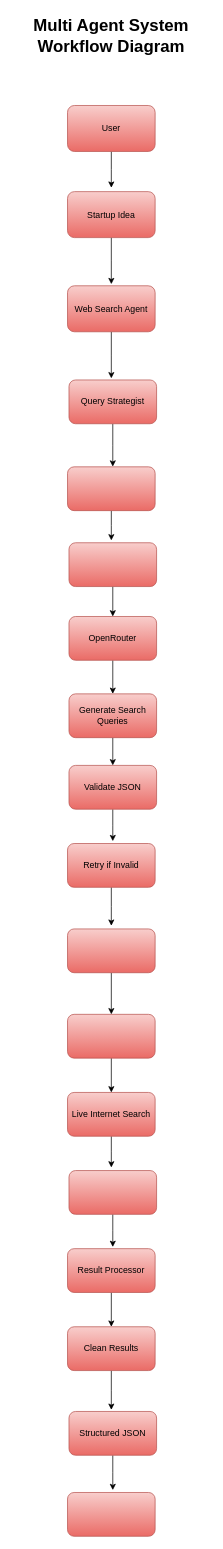
Image size: 223x1549. Some labels were removed from this diagram. Each missing label, with the centre of its shape:
Categorized Queries: (111,950)
Load Prompt: (112,564)
Market Analysis Agent(MileStone 2): (111,1514)
Raw Results: (112,1192)
Tavily Search Service: (111,1036)
Validate Input: (111,488)
